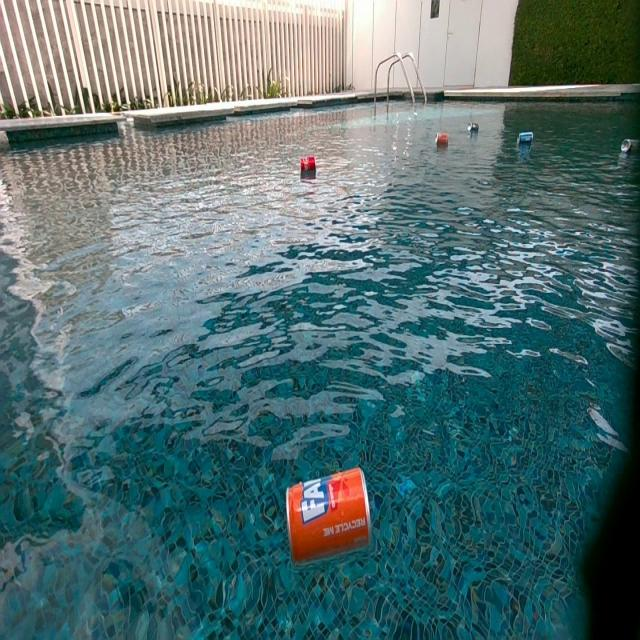Cans: (285, 465, 373, 569), (300, 155, 316, 176), (517, 132, 534, 148), (622, 139, 638, 155), (434, 134, 450, 148), (467, 121, 478, 132)
